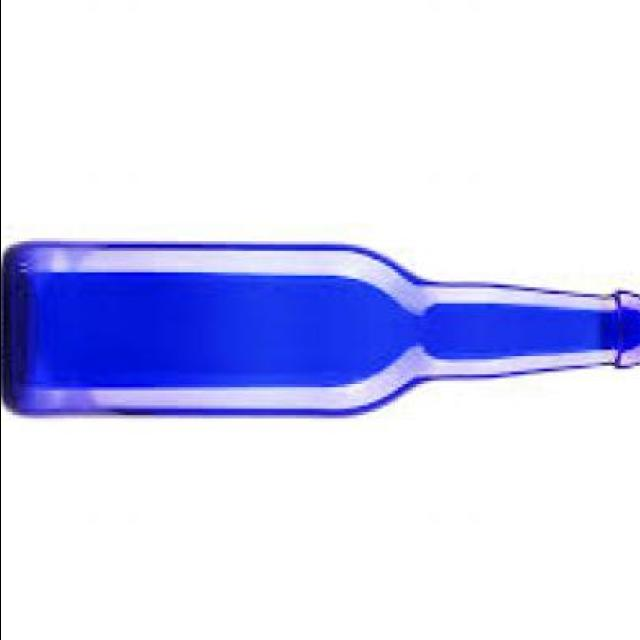kaca: (2, 245, 640, 422)
